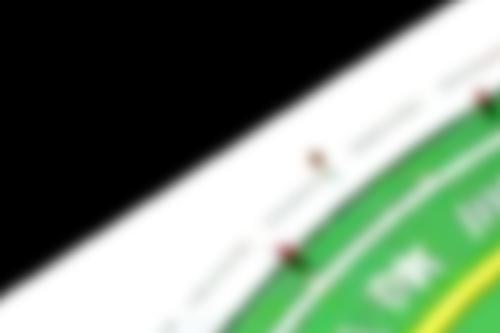Apron: (431, 236, 500, 333)
